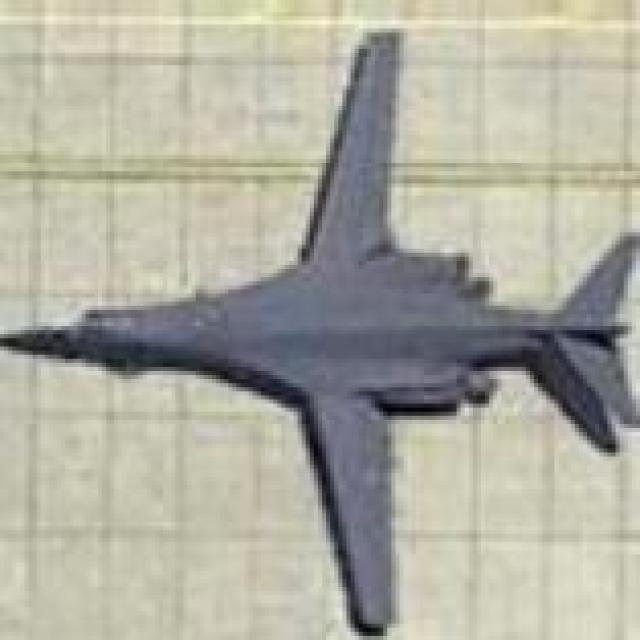B-1_TopDown: (0, 24, 636, 636)
